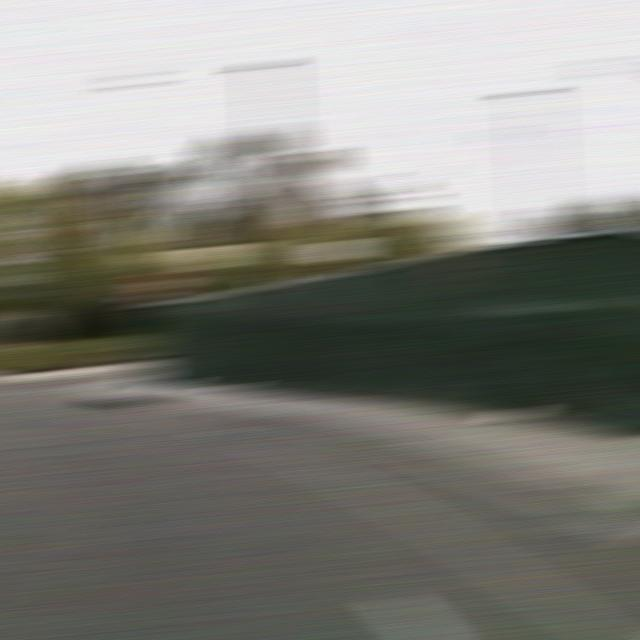stop: (140, 269, 183, 299)
